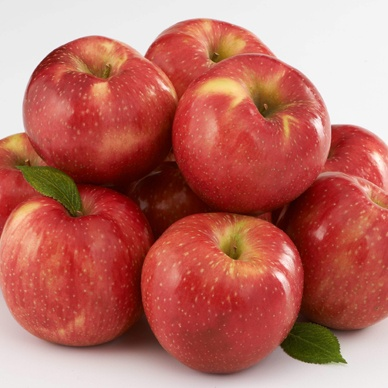apple: (140, 211, 305, 378), (172, 52, 334, 215), (1, 186, 157, 351), (24, 33, 176, 190), (294, 172, 388, 329)
